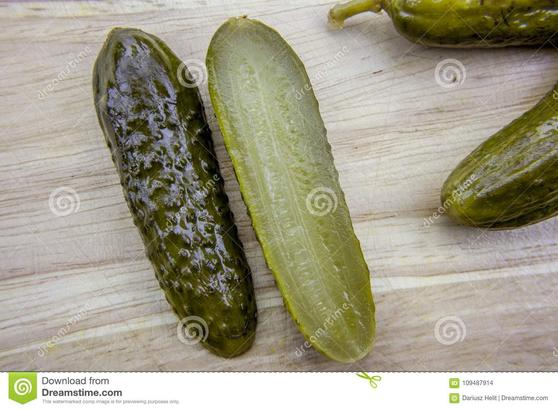cucumber: (71, 23, 266, 361), (442, 70, 558, 242)
